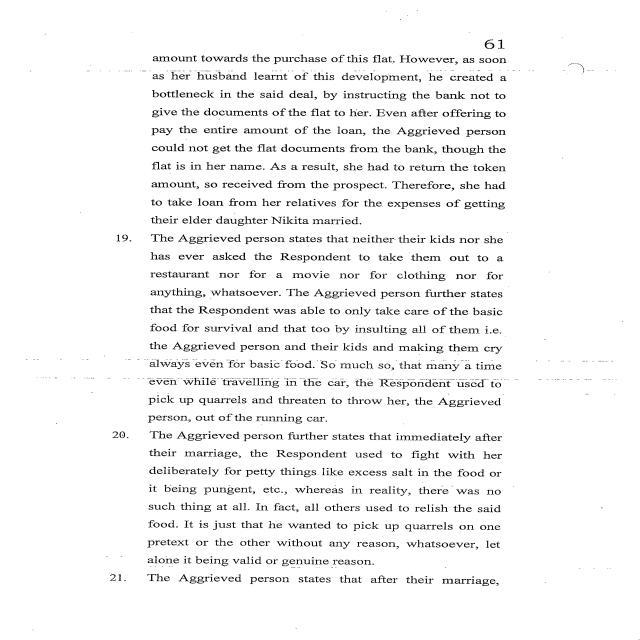page-number: (349, 0, 640, 53)
